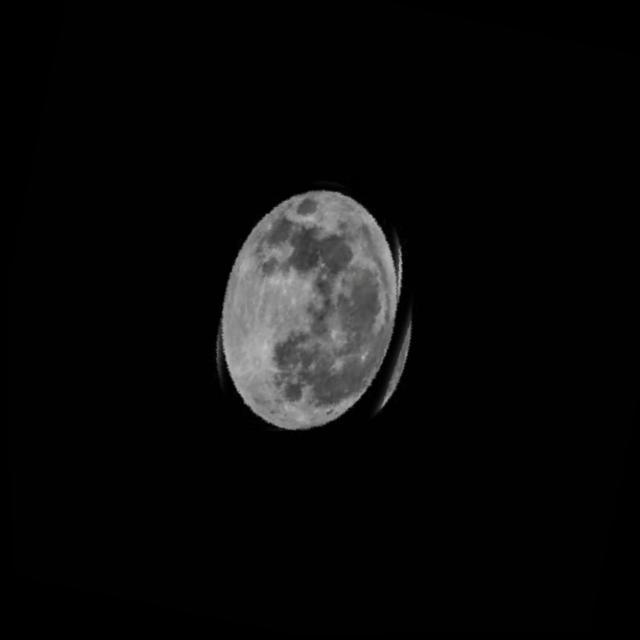moon: (192, 151, 457, 465)
